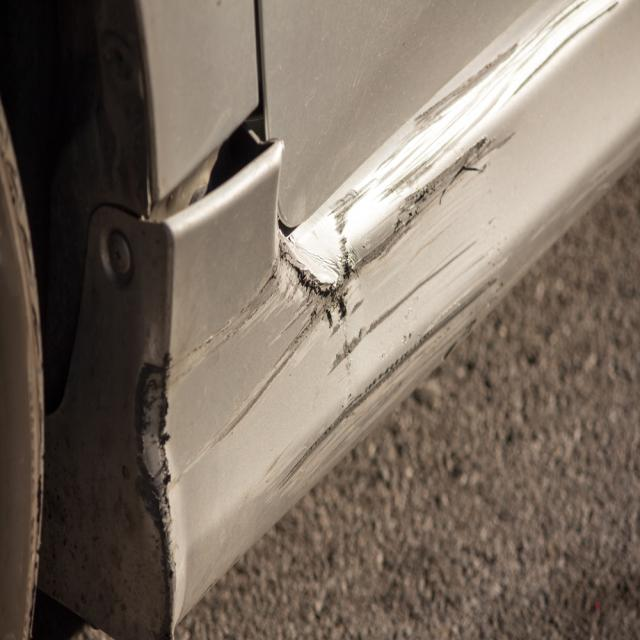scratch: (134, 0, 640, 574)
